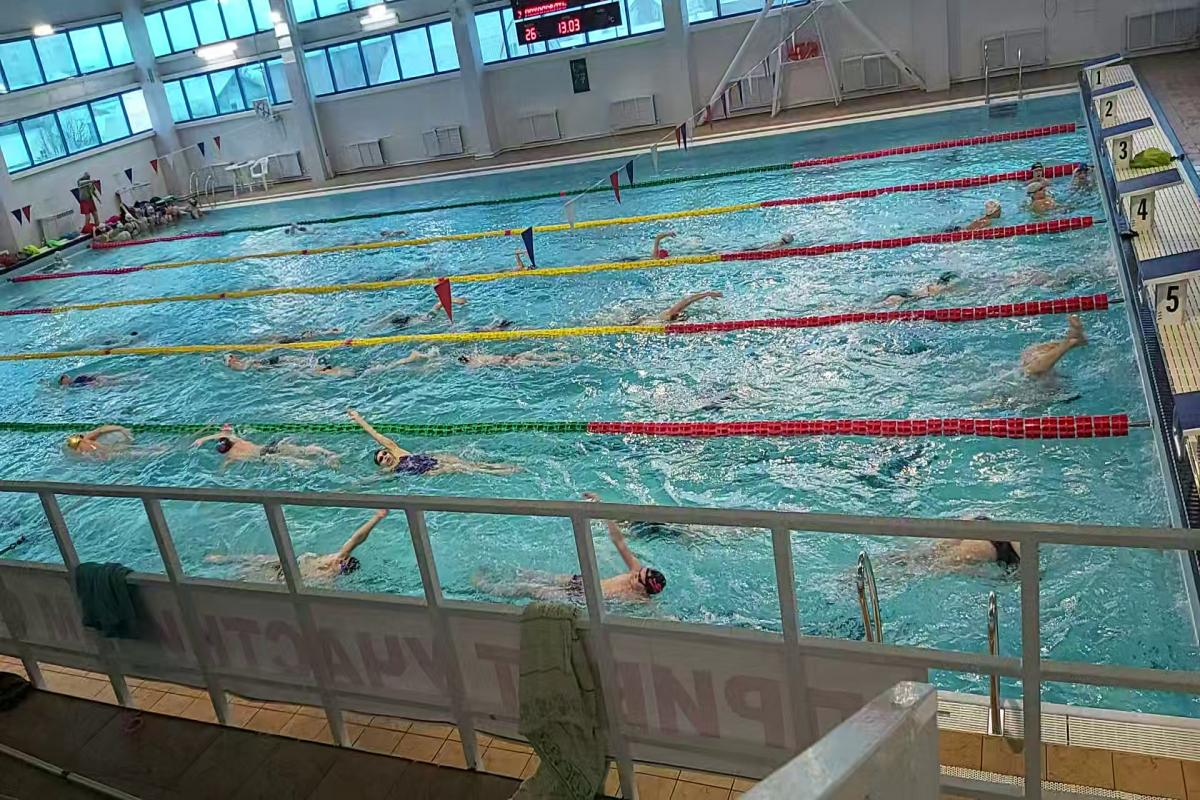swimmer: (498, 525, 683, 609), (202, 520, 408, 583), (881, 517, 1029, 586), (352, 433, 527, 485), (183, 435, 343, 484), (1010, 326, 1100, 398), (616, 290, 742, 324), (47, 434, 171, 465), (454, 349, 564, 371), (370, 300, 467, 323), (210, 356, 316, 375), (39, 373, 137, 393), (957, 198, 1012, 229), (1018, 181, 1063, 218), (621, 231, 683, 257), (741, 227, 801, 248), (496, 248, 542, 268)
